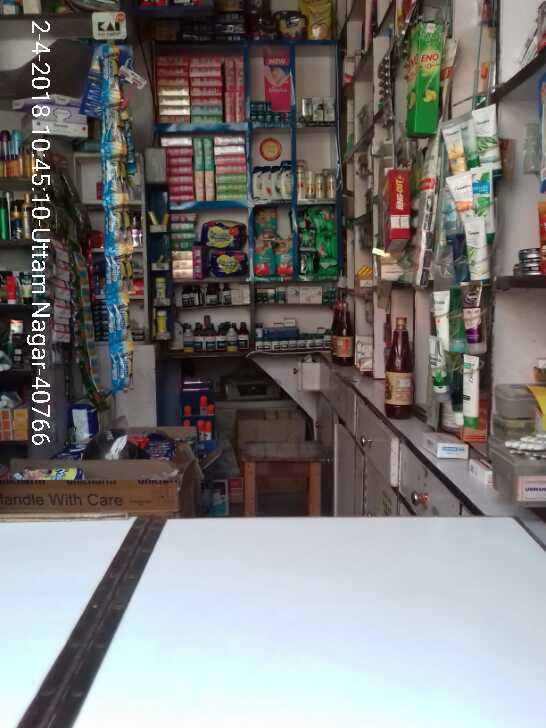vicks: (251, 99, 292, 121)
